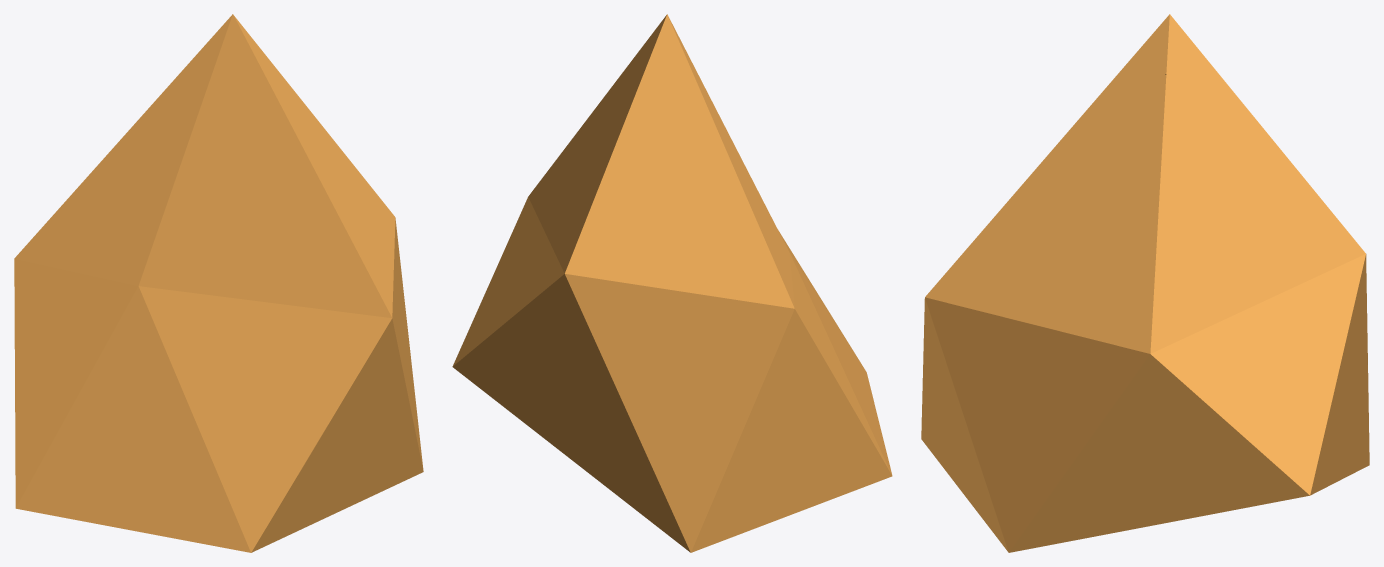
The model's file is theRock.dae.
3 views of the same model, side by side, from view 1: azimuth 30°, elevation 25°; view 2: azimuth 150°, elevation 25°; view 3: azimuth 270°, elevation 25° (orthographic). The views are drawn at different scales.
Parts seen in each view (by area): view 1: Icosphere; view 2: Icosphere; view 3: Icosphere.
Part boxes in pixels (x1,y1,x2,y2): Icosphere: [14, 14, 423, 552]; Icosphere: [452, 14, 892, 552]; Icosphere: [921, 14, 1369, 552].
Size of the model in its own units: 1.82 by 2.1 by 1.66.
1 material, 1 textured.
